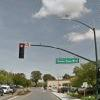Traffic light: (9, 41, 33, 67)
